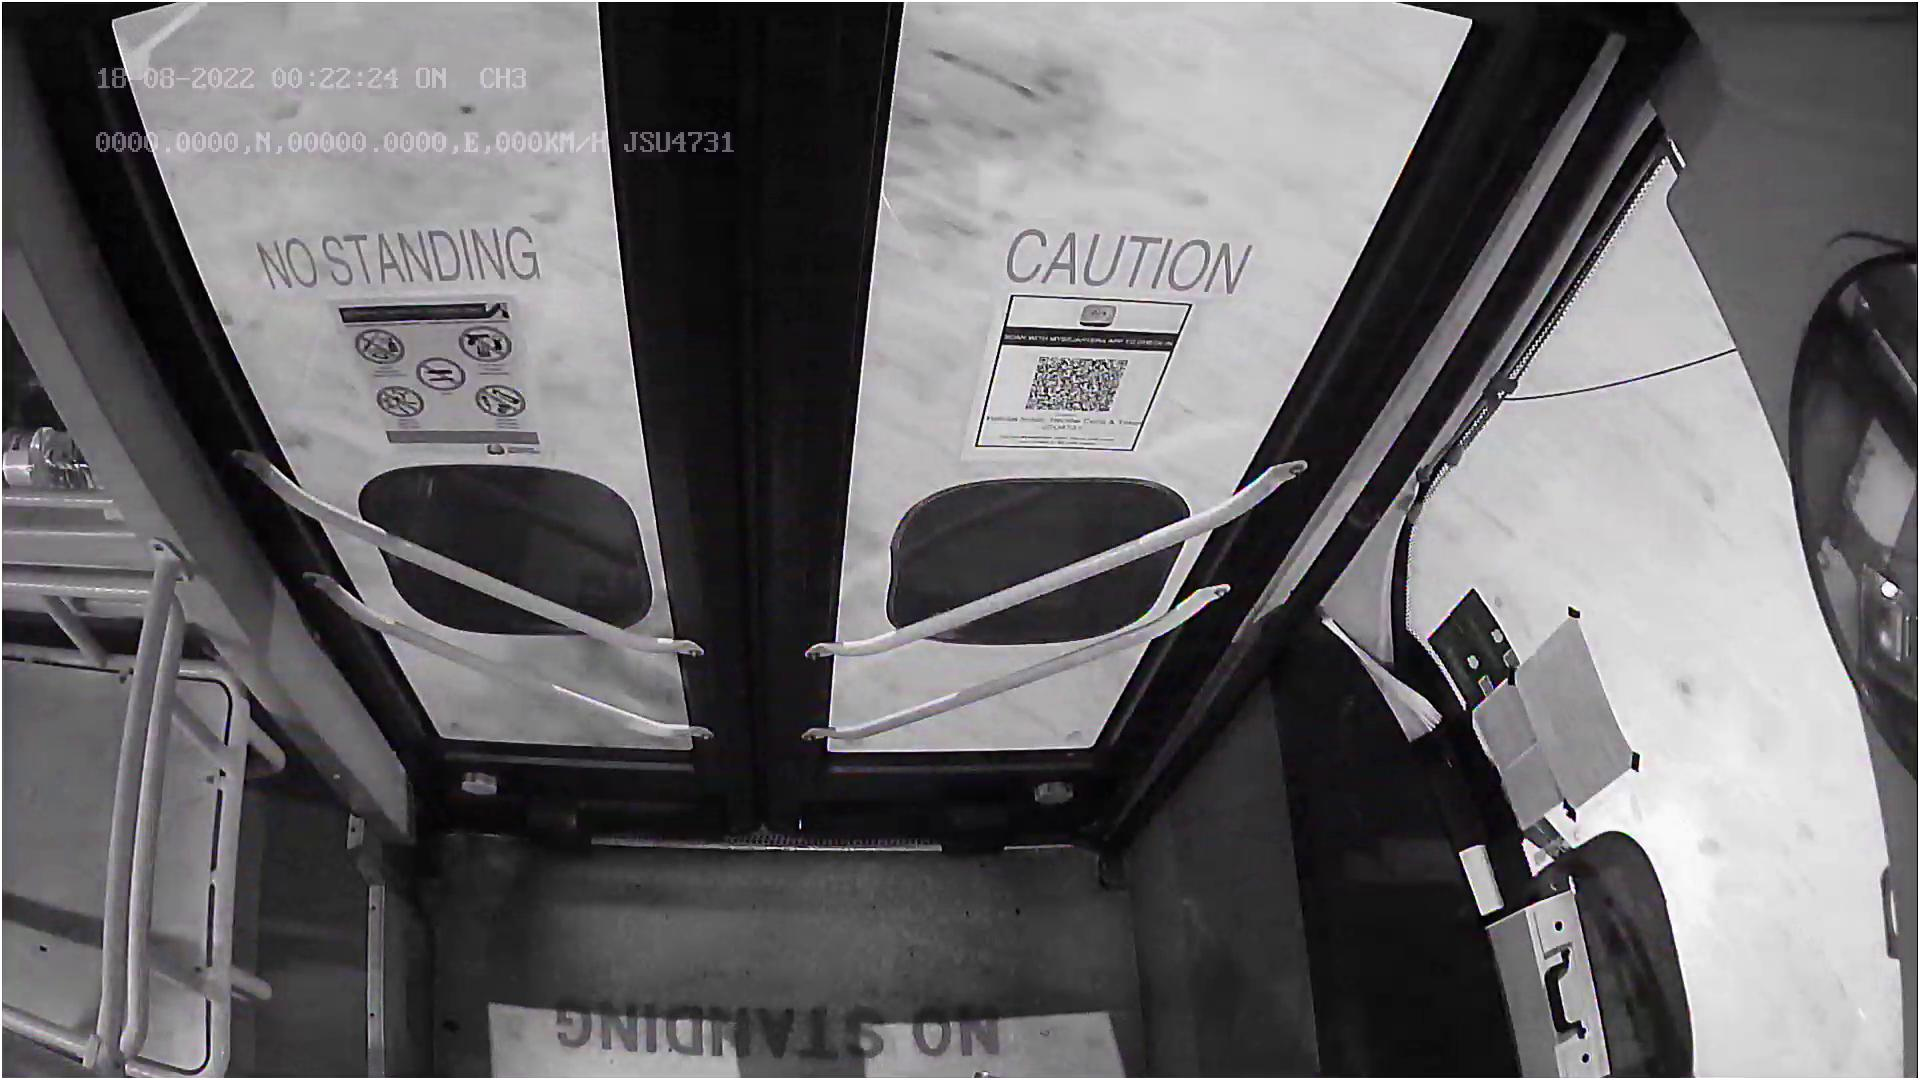close: (127, 0, 1453, 152)
